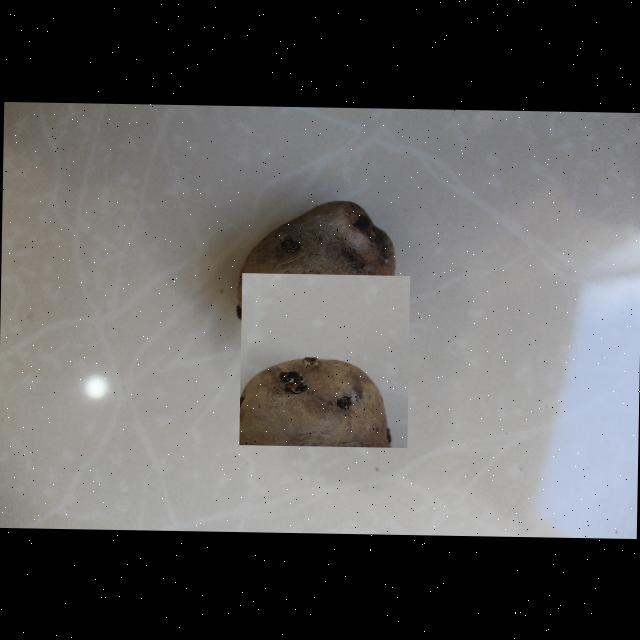Diseased-fungal potato: (239, 272, 410, 448)
